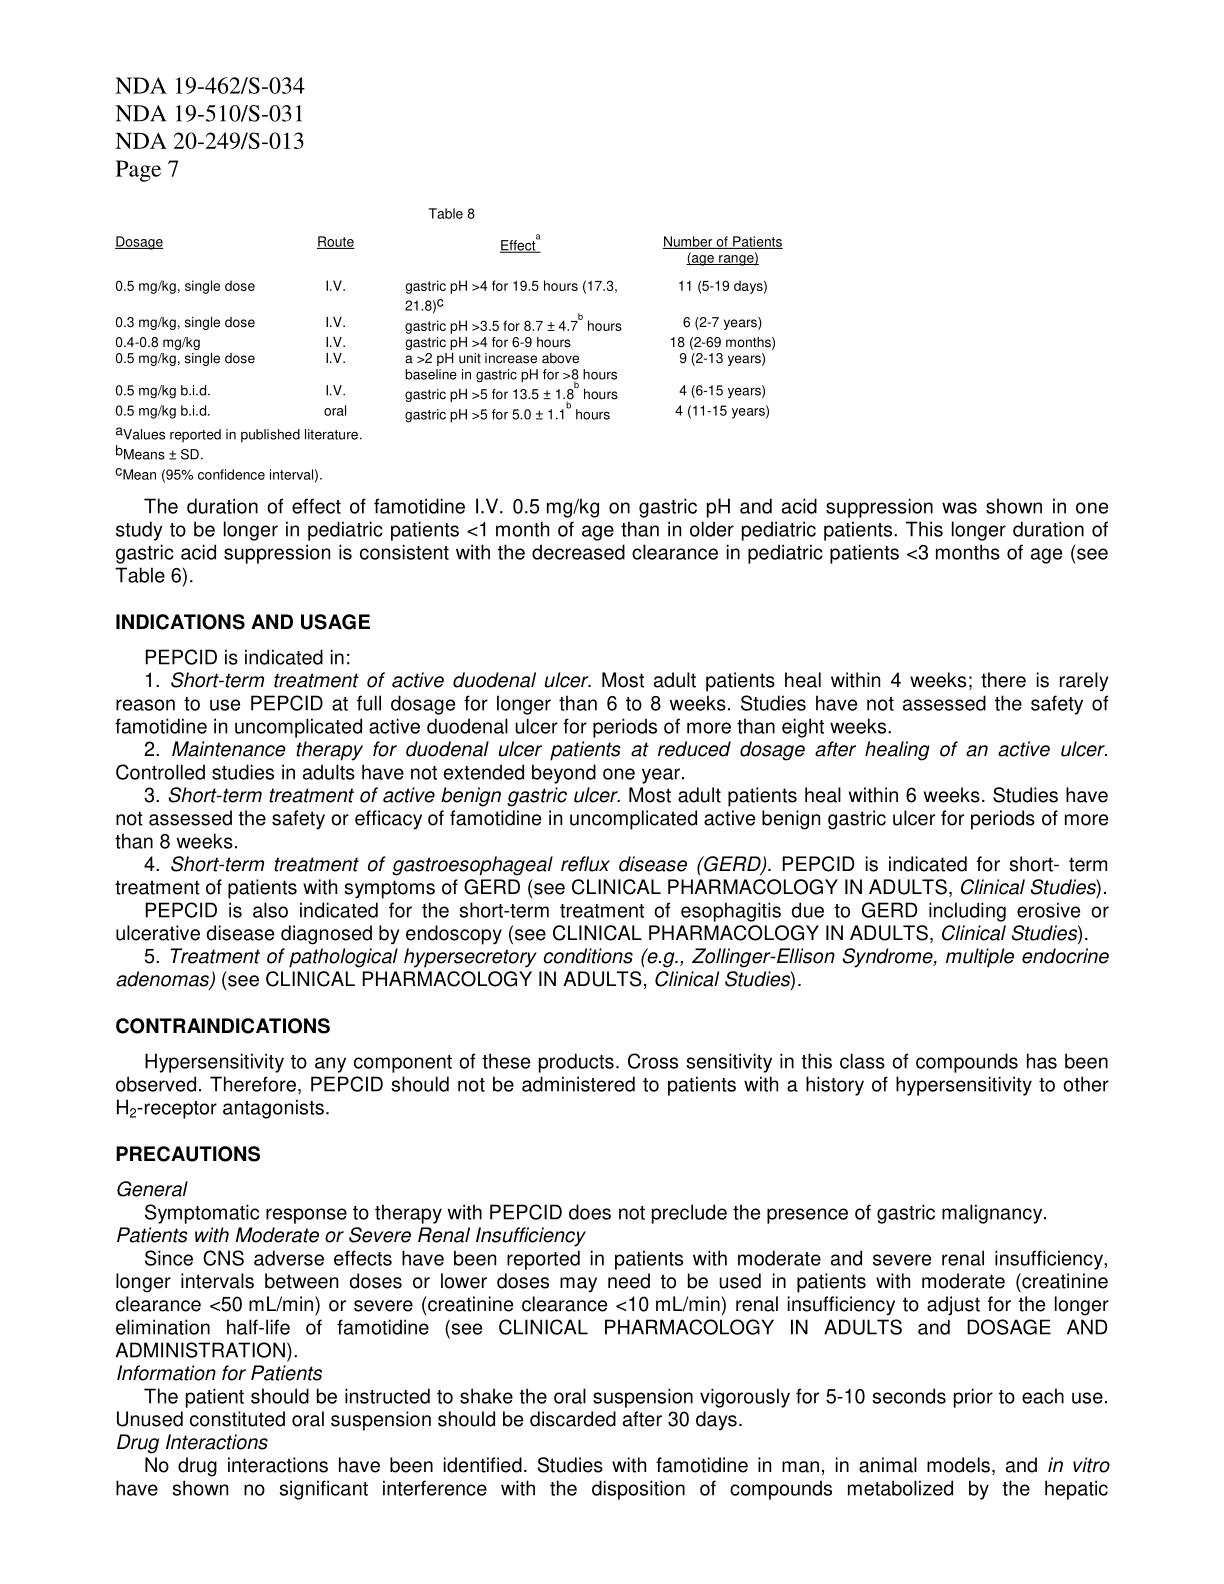nolines: (109, 231, 786, 424)
